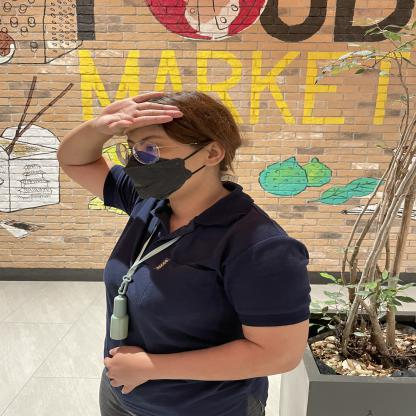Sick: (31, 88, 212, 182)
